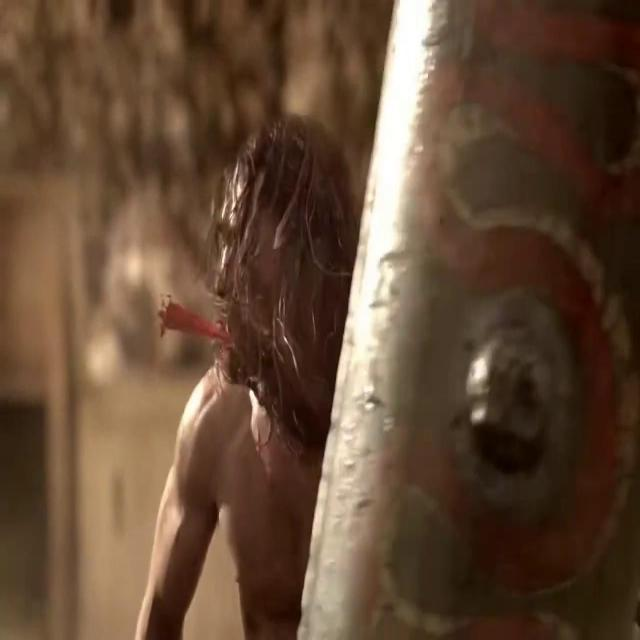flood: (136, 260, 240, 390)
